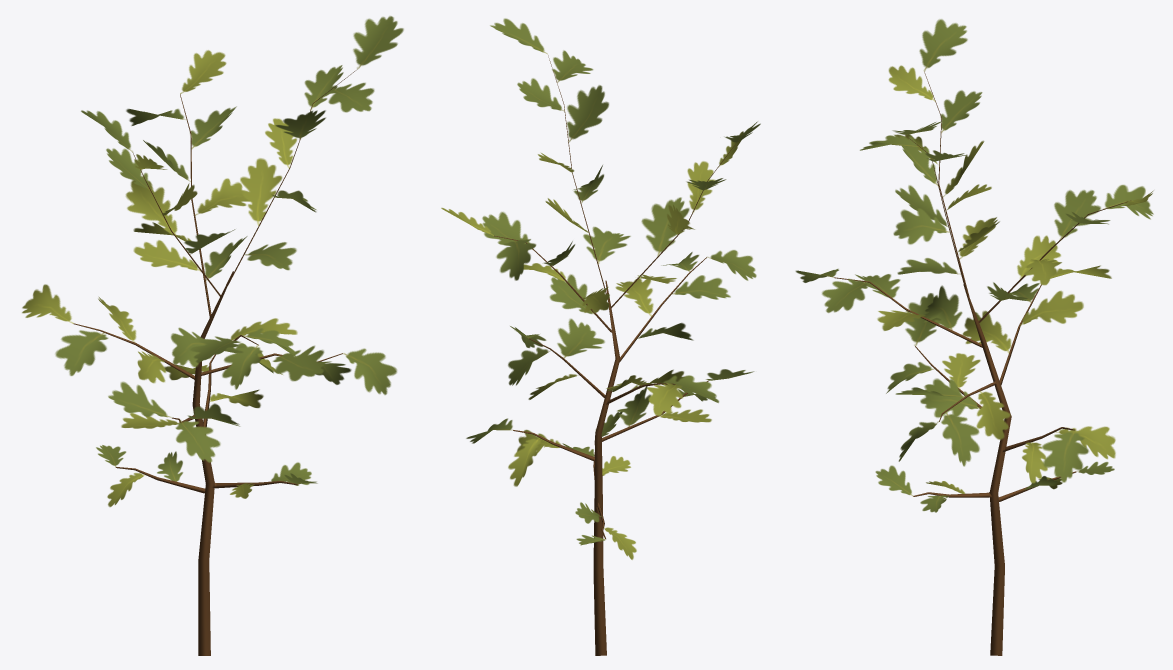
Rendered from Young_Oak_Tree_1.glb.
The picture shows the model from 3 angles, left to right: view 1: azimuth 30°, elevation 25°; view 2: azimuth 150°, elevation 25°; view 3: azimuth 270°, elevation 25°; orthographic projection. The views are drawn at different scales.
Parts seen in each view (by area): view 1: Young_Oak_Tree_1; view 2: Young_Oak_Tree_1; view 3: Young_Oak_Tree_1.
Part boxes in pixels (bbox=[...]): Young_Oak_Tree_1: bbox=[22, 16, 403, 655]; Young_Oak_Tree_1: bbox=[441, 18, 760, 655]; Young_Oak_Tree_1: bbox=[795, 19, 1153, 655].
Bounding box in the file's own units: 1.23 × 2.43 × 1.35.
Materials: 2 (2 with a texture image).
